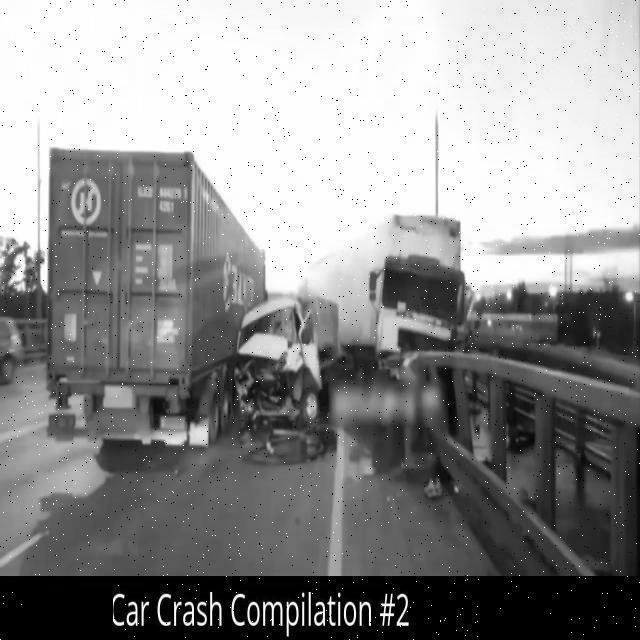accident: (45, 142, 336, 463), (232, 206, 471, 461)
vehicle: (0, 311, 27, 392)
